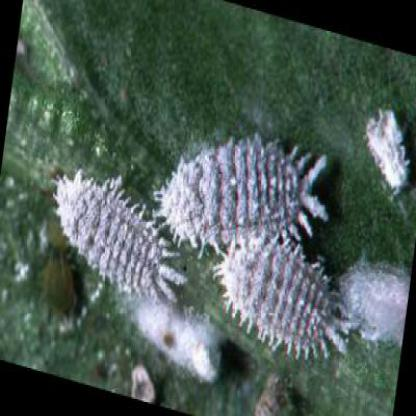mealy bug: (159, 135, 326, 251), (57, 177, 180, 306), (222, 232, 346, 354)
